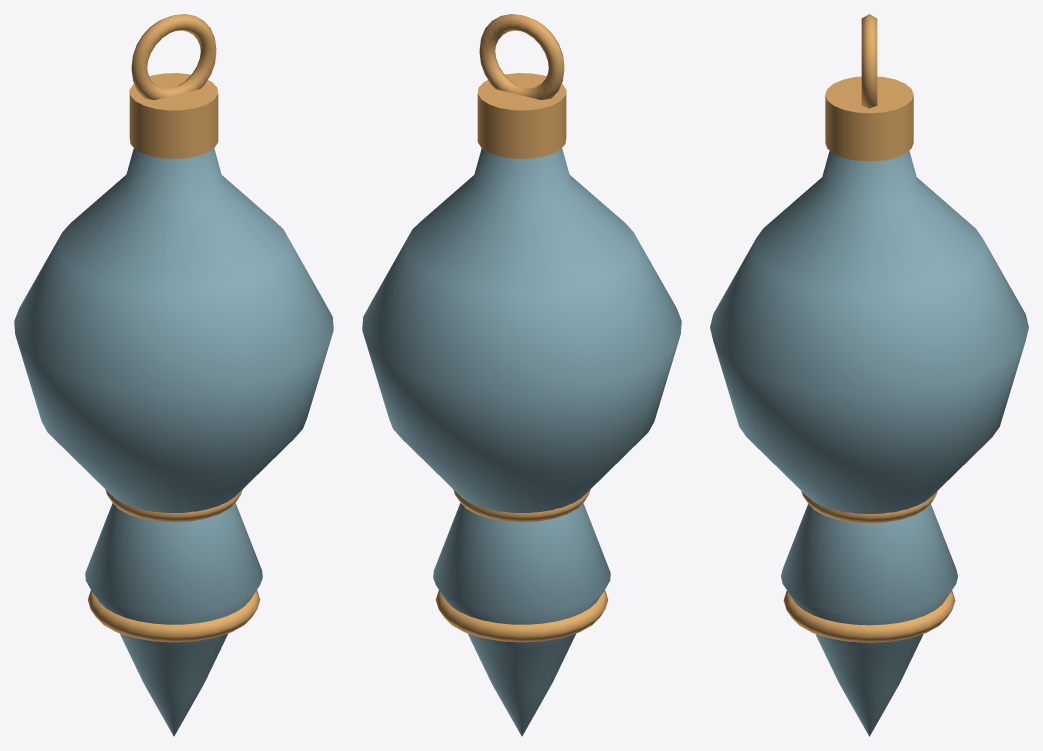
Rendered from storybook-christmas-market-turned-finial-ornament-11e11260__19713.glb.
The picture shows the model from 3 angles, left to right: view 1: azimuth 30°, elevation 25°; view 2: azimuth 150°, elevation 25°; view 3: azimuth 270°, elevation 25°; orthographic projection.
Parts seen in each view (by area): view 1: turned-finial-ornament; view 2: turned-finial-ornament; view 3: turned-finial-ornament.
Boxes of the visible parts, x1,y1,x2,y2 form: turned-finial-ornament: (14,14,333,736); turned-finial-ornament: (362,14,681,736); turned-finial-ornament: (710,14,1028,736).
Size of the model in its own units: 0.36 by 0.895 by 0.36.
